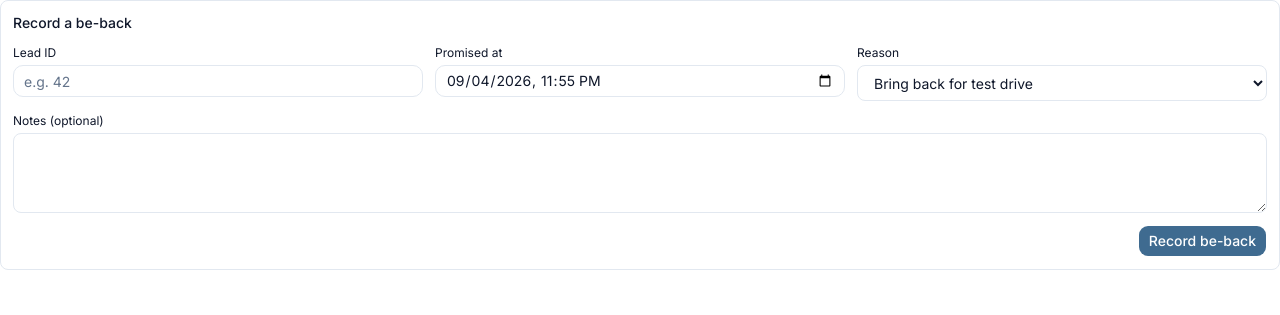
RecordBeBackForm › surfaces a 404 as a lead-not-found error
This screenshot has width=1280, height=315.
Type "9999" into the number field with test id "record-be-back-lead-id" at (218, 81), box [13,65,423,97]
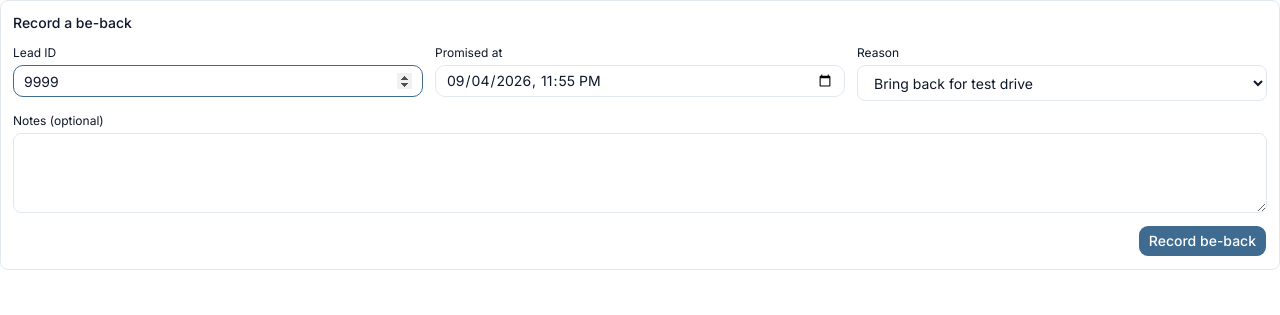
Click the button with test id "record-be-back-submit" at (1202, 241), box [1138,225,1267,257]
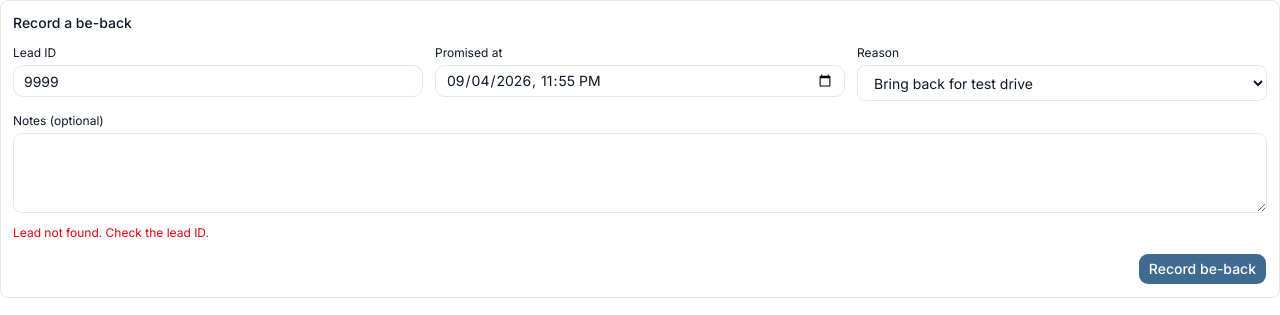
expect the text with test id "record-be-back-error" shows "Lead not found": met, box [13,225,209,240]
